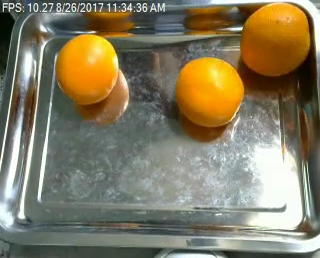Orange: (240, 2, 310, 76), (176, 56, 245, 126), (55, 33, 119, 104)
